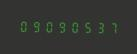five: (82, 20, 94, 34)
nine: (30, 19, 42, 33), (56, 19, 68, 33)
seven: (108, 20, 120, 34)
three: (95, 20, 107, 34)
zero: (17, 19, 29, 33), (43, 19, 55, 33), (69, 20, 81, 34)
